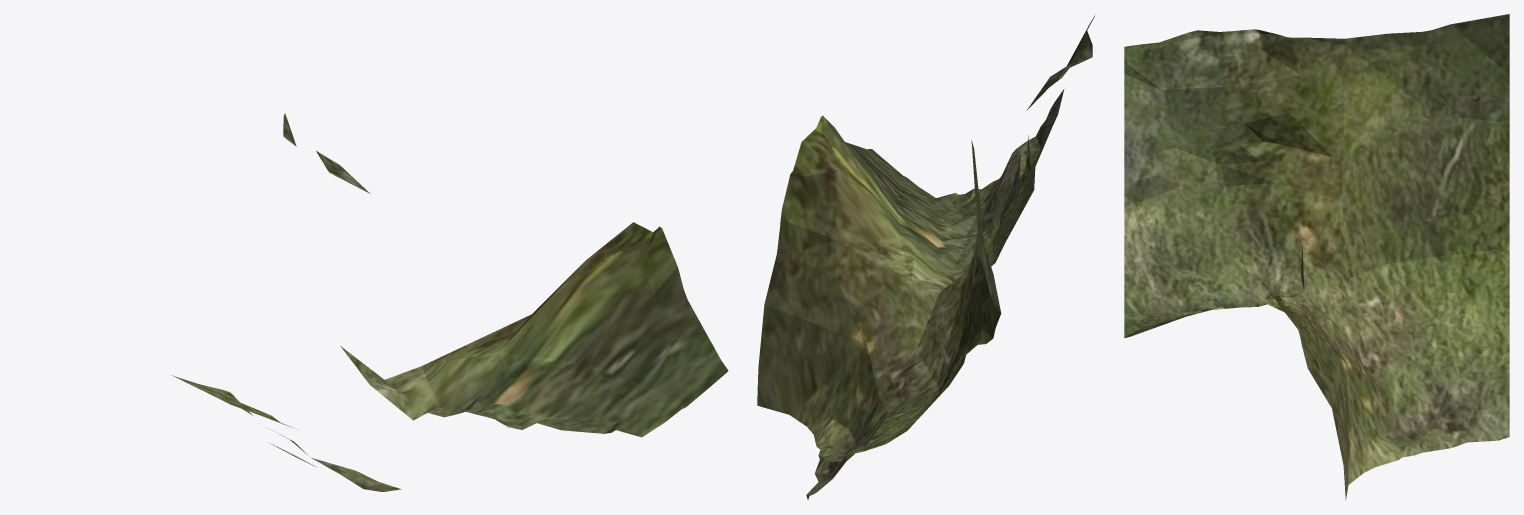
3 views of the same model, side by side, from view 1: azimuth 30°, elevation 25°; view 2: azimuth 150°, elevation 25°; view 3: azimuth 270°, elevation 25° (orthographic). The views are drawn at different scales.
Size of the model in its own units: 2.8 by 2.95 by 2.95.
3 materials, 3 textured.
